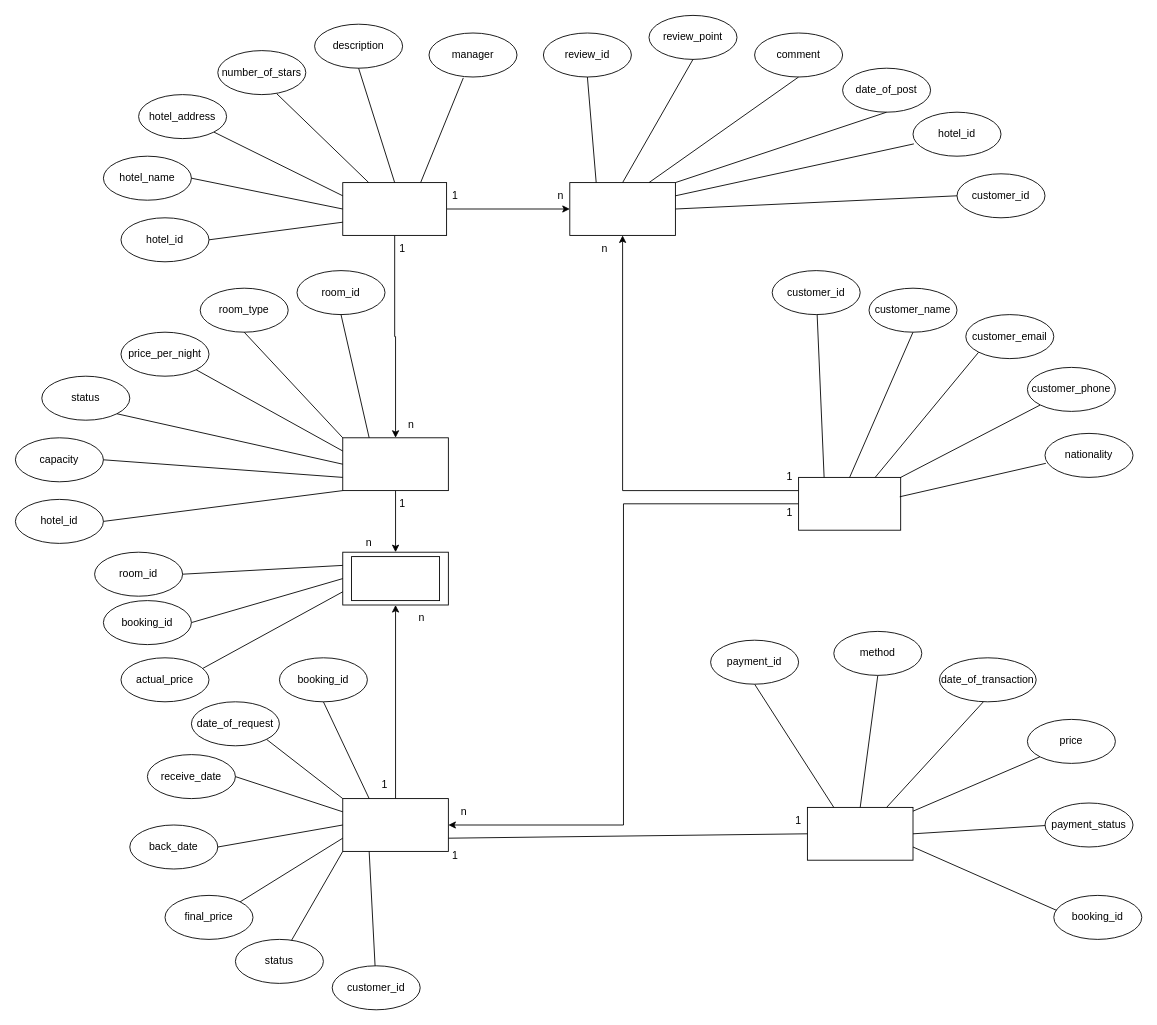
This 1157x1025 diagram has some shape labels left out. Here are the shapes that lost their labels. From the top down, the centre of each, then its label:
At (x=394, y=208): "Hotel".
At (x=622, y=208): "Review".
At (x=395, y=464): "Room".
At (x=849, y=503): "Customer".
At (x=395, y=578): "RoomBooking".
At (x=395, y=824): "Booking".
At (x=860, y=833): "Payment".
